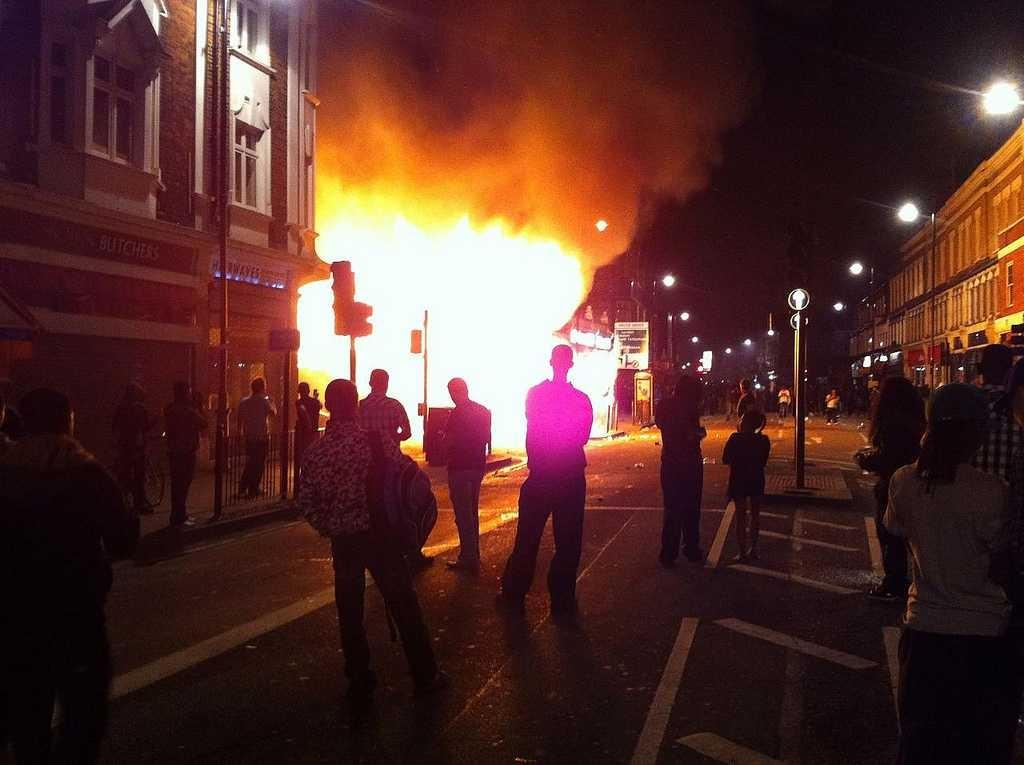fire: (320, 234, 586, 418)
smoke: (354, 2, 702, 188)
